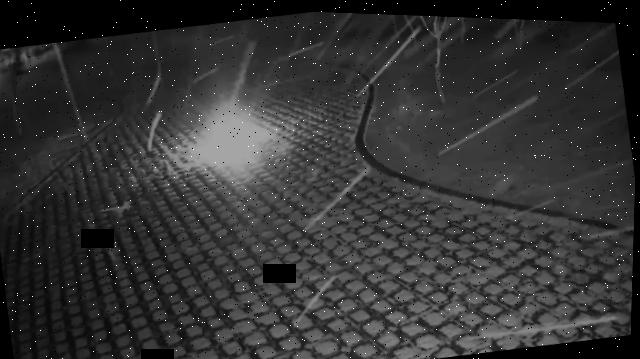fire: (195, 103, 277, 165)
